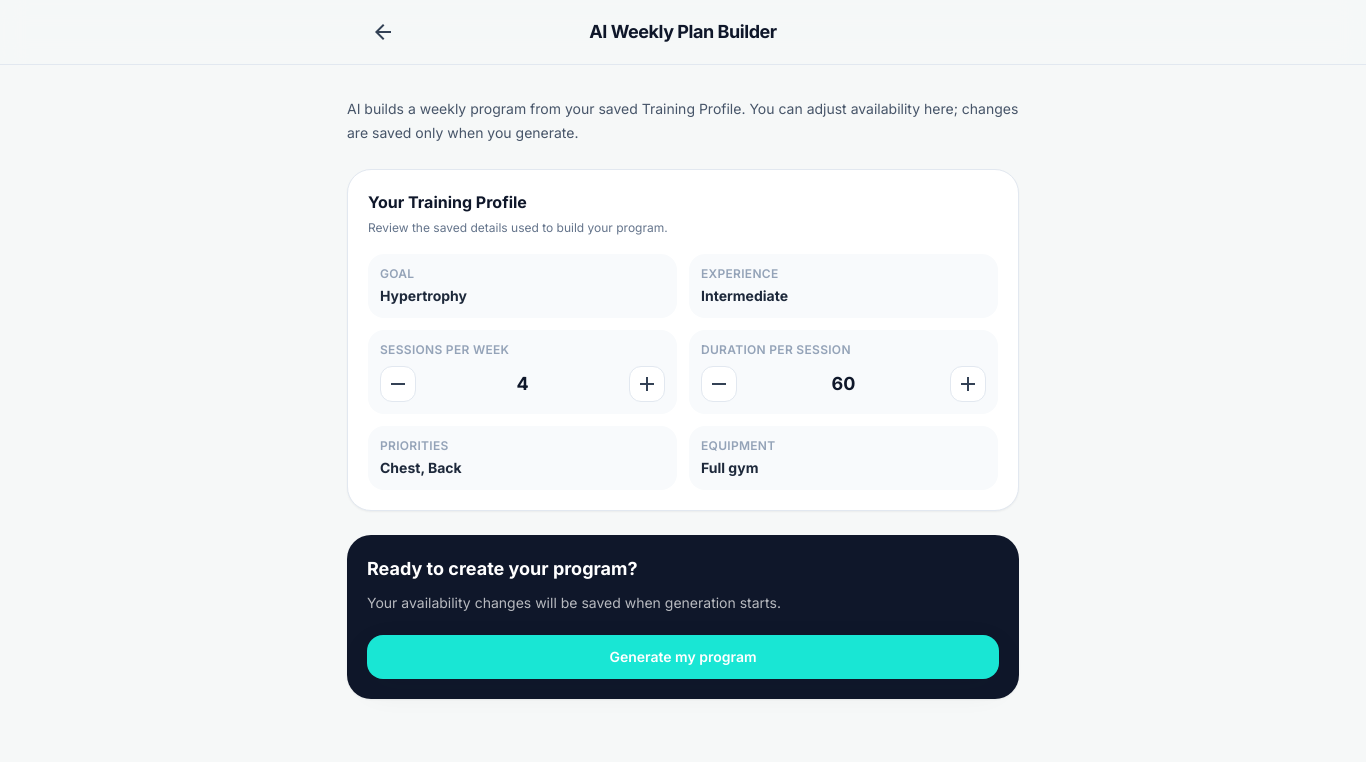
Test case: generation retry after a successful save does not repeat PATCH
This screenshot has width=1366, height=762.
Expected: the text "Hypertrophy" is shown, [380, 287, 467, 304]
Click the button named "Increase sessions per week": x=647, y=384 [629, 366, 665, 402]
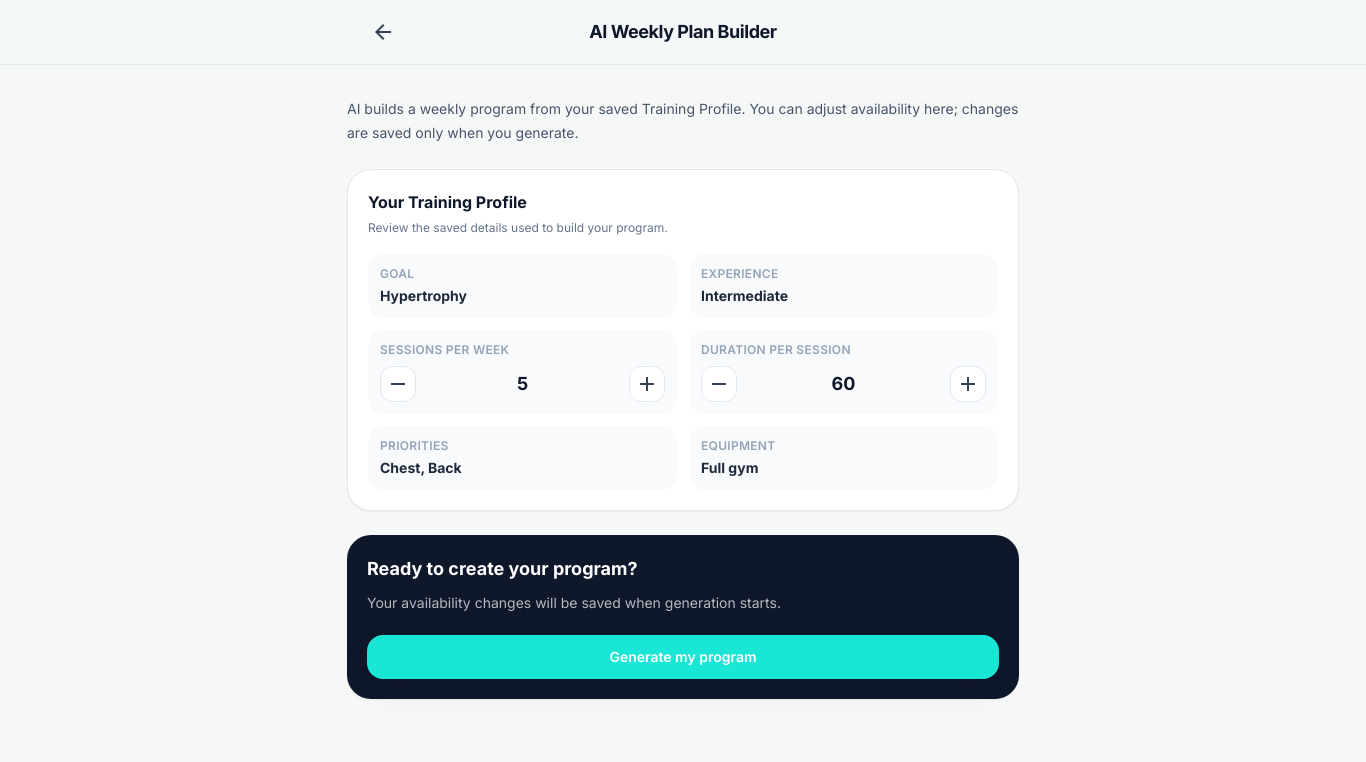
Click the button "Generate my program": x=683, y=657 [367, 635, 999, 679]
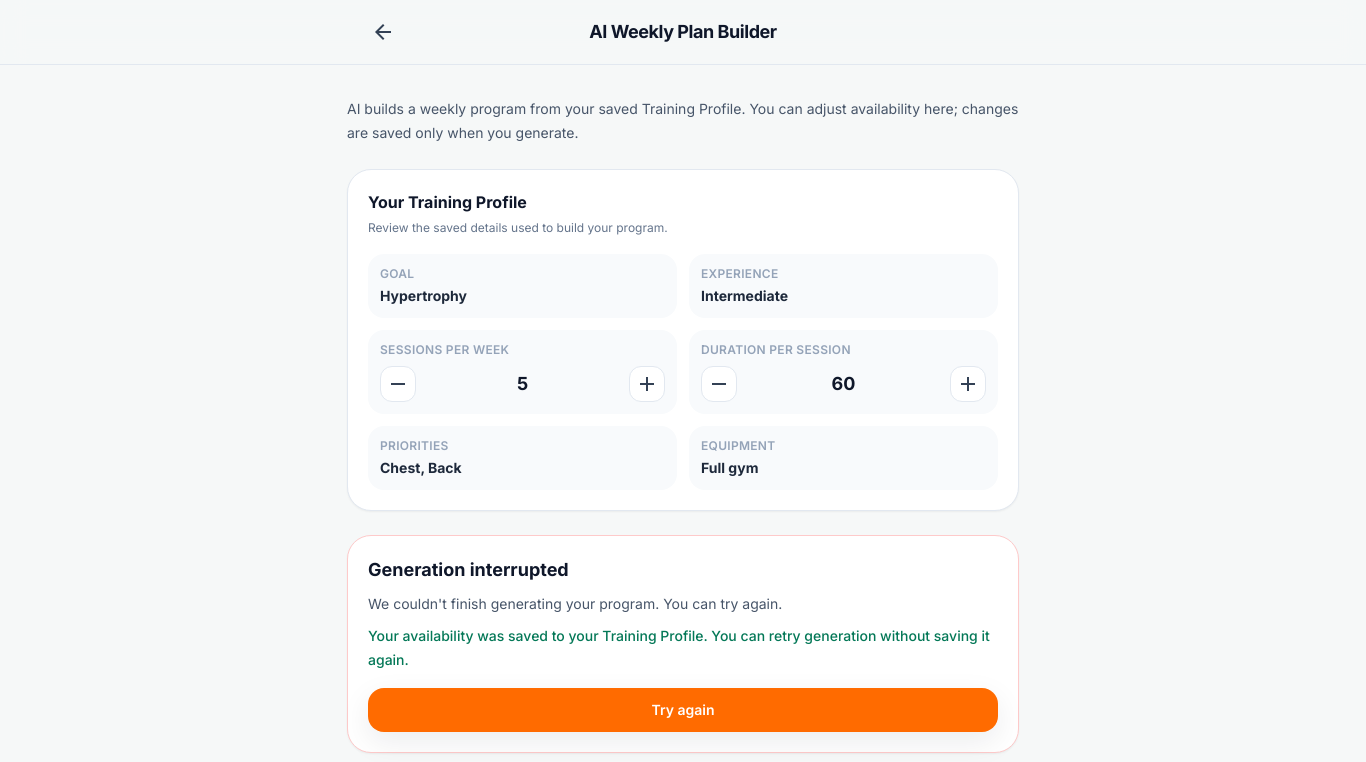
Expected: the text "Your availability was saved" is shown, [368, 627, 990, 668]
Click the button "Try again": x=683, y=710 [368, 688, 998, 732]
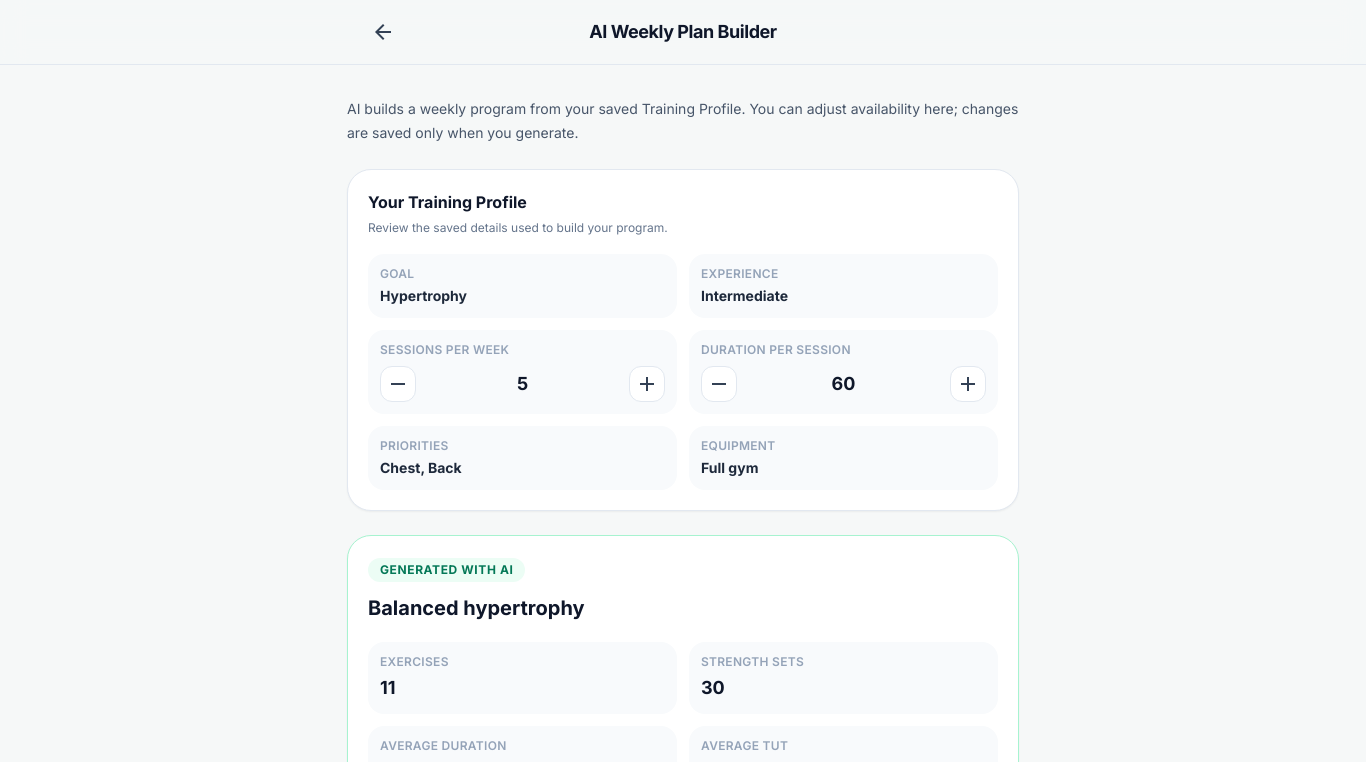
Expected: the heading "Balanced hypertrophy" is shown, [368, 596, 585, 620]
